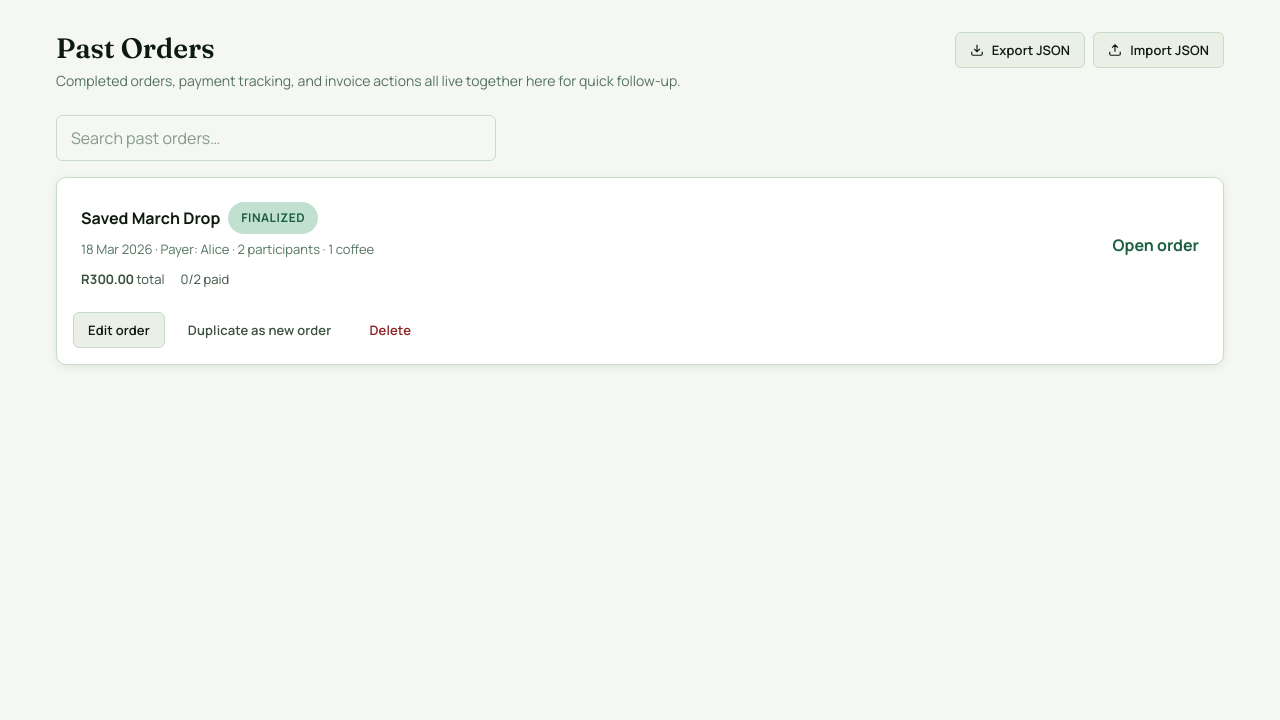
HistoryPage › removes the coffee summary card from past-order details and shows the full order invoice action
Click the button that starts with "Saved March Drop": (640, 245) [57, 178, 1223, 312]
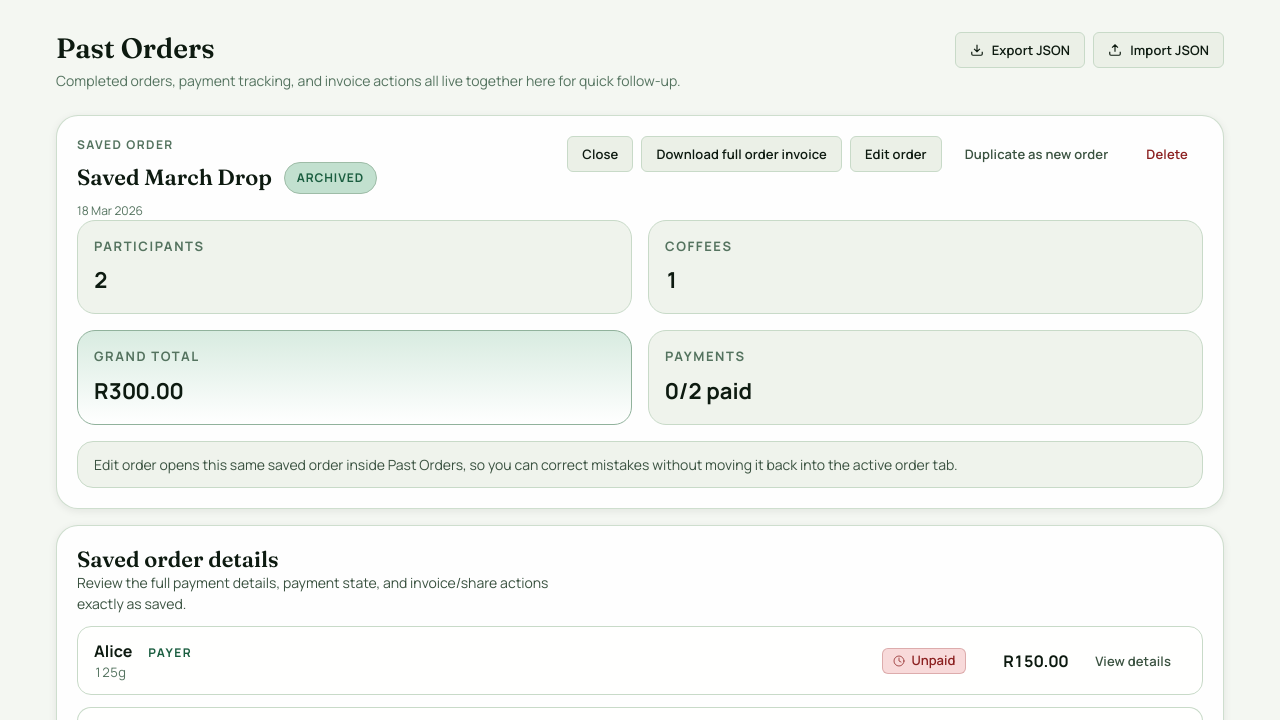
Check: the text "Download full order invoice" is shown, box [641, 136, 842, 172]
